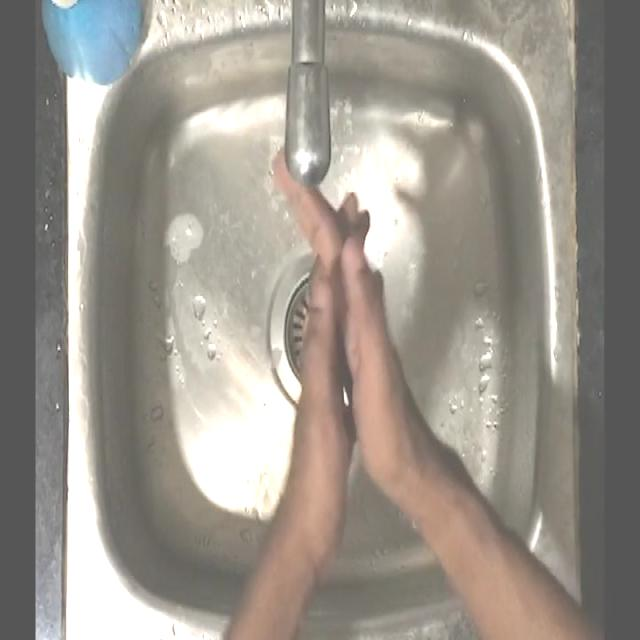step_3: (262, 124, 412, 474)
